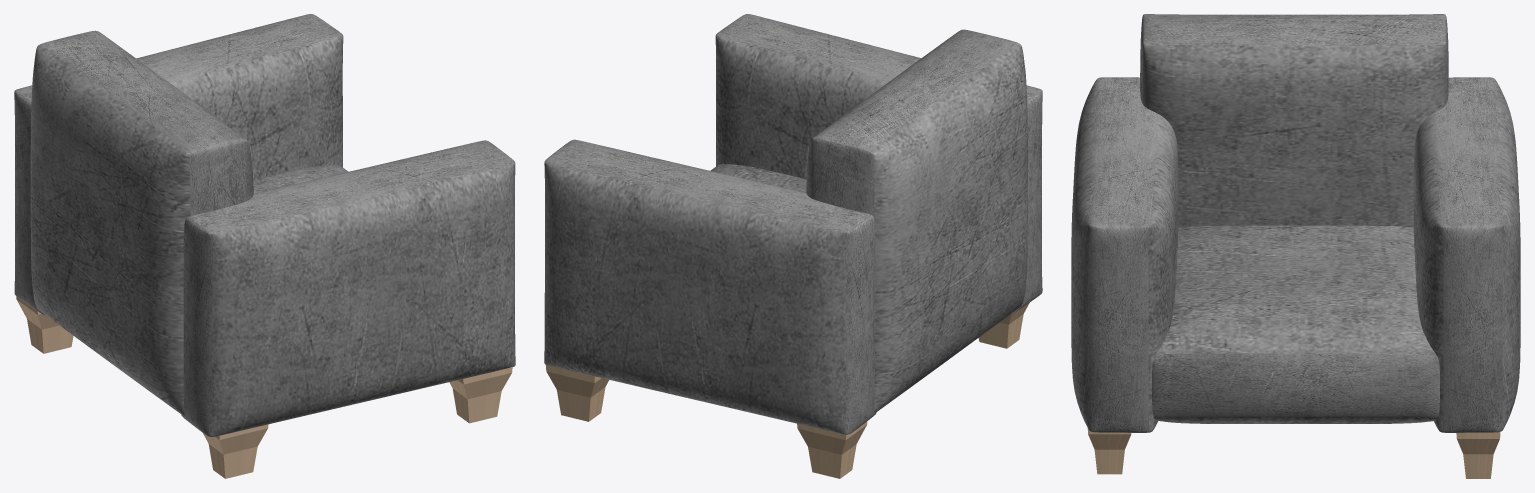
Rendered from modern_armchair_3d_model_-_furniture.glb.
3 renders of one model, left to right at view 1: azimuth 30°, elevation 25°; view 2: azimuth 150°, elevation 25°; view 3: azimuth 270°, elevation 25°, orthographic.
Visible parts, largest first — view 1: Cube.018_0; view 2: Cube.018_0; view 3: Cube.018_0.
Part boxes in pixels (x1=…): Cube.018_0: x1=14, y1=14, x2=515, y2=478; Cube.018_0: x1=544, y1=14, x2=1042, y2=478; Cube.018_0: x1=1071, y1=14, x2=1520, y2=478.
Size of the model in its own units: 5.45 by 5.11 by 6.36.
2 materials, 2 textured.
